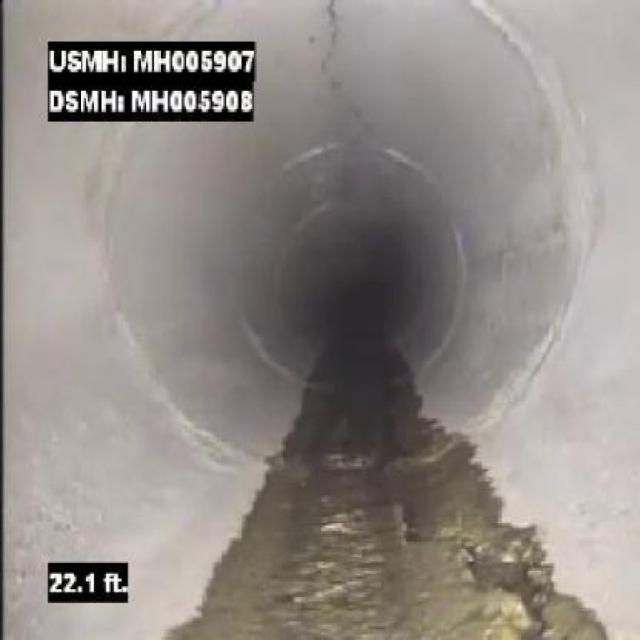Crack: (451, 366, 529, 486), (308, 6, 366, 88)
Hole: (399, 497, 586, 635)
